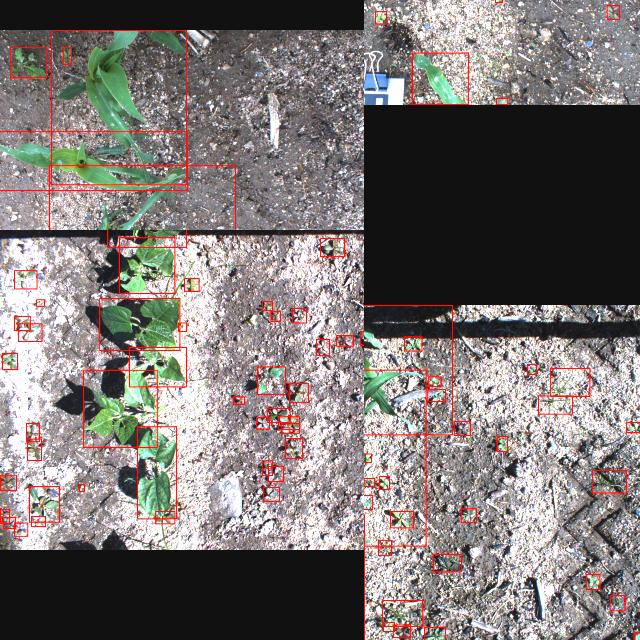crop: (51, 29, 186, 184), (48, 165, 235, 230), (364, 305, 452, 435), (0, 131, 186, 190), (364, 369, 425, 546), (83, 369, 157, 446), (99, 298, 179, 350), (118, 237, 174, 293), (411, 53, 467, 105), (128, 347, 186, 387), (106, 230, 185, 246), (496, 99, 506, 105)
weed: (136, 427, 176, 519), (10, 46, 46, 78), (550, 368, 590, 396), (29, 486, 59, 522), (382, 601, 422, 627), (257, 367, 285, 395), (592, 470, 626, 492), (538, 396, 572, 414), (433, 554, 461, 572), (320, 238, 344, 256), (17, 323, 41, 341), (14, 270, 36, 288), (288, 383, 308, 402), (284, 438, 302, 458), (390, 512, 412, 528), (27, 439, 41, 461), (267, 408, 289, 422), (423, 627, 444, 640), (278, 416, 298, 429), (2, 352, 16, 370), (403, 336, 421, 350), (26, 423, 38, 442), (263, 487, 279, 501), (268, 466, 282, 482), (0, 476, 16, 490), (585, 574, 599, 590), (460, 508, 476, 522), (453, 421, 469, 435), (377, 540, 391, 556), (156, 512, 174, 524), (392, 626, 410, 638), (427, 389, 445, 401), (15, 316, 30, 330), (291, 308, 305, 322), (610, 596, 624, 610), (316, 339, 328, 355), (281, 423, 299, 433), (606, 6, 618, 20), (184, 278, 198, 290), (13, 524, 27, 536), (336, 336, 352, 346), (262, 460, 272, 476), (496, 436, 506, 452), (62, 46, 70, 64), (374, 12, 386, 24), (256, 417, 268, 429), (2, 518, 16, 528), (31, 517, 45, 527), (626, 422, 640, 432), (378, 476, 388, 489), (428, 376, 440, 386), (0, 509, 8, 523), (364, 495, 372, 509), (382, 622, 393, 632), (262, 301, 272, 311), (270, 311, 280, 321), (526, 364, 536, 374), (232, 396, 244, 404), (364, 477, 374, 486), (178, 322, 186, 332), (359, 331, 364, 345), (364, 453, 371, 462), (633, 632, 640, 640), (78, 484, 84, 492), (36, 300, 44, 306), (494, 0, 501, 3)
